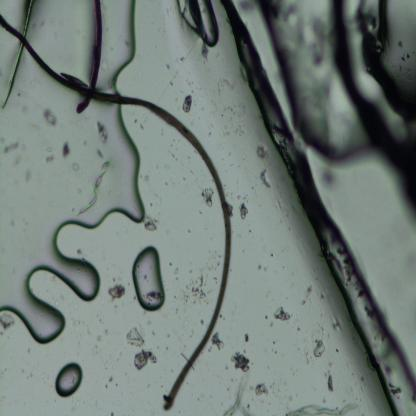Air bubble: (0, 121, 150, 344), (102, 0, 141, 93), (130, 244, 166, 312), (178, 0, 220, 50), (52, 362, 82, 398)
Background material: (0, 0, 35, 112), (178, 261, 221, 305), (134, 348, 158, 372), (124, 324, 146, 348), (94, 120, 109, 146), (233, 350, 252, 370), (109, 280, 127, 301), (300, 282, 314, 307), (273, 304, 292, 322), (201, 184, 214, 209), (259, 166, 272, 191), (0, 312, 16, 330), (255, 381, 270, 399), (312, 338, 325, 358), (144, 215, 159, 232), (238, 200, 250, 221), (60, 140, 72, 161), (212, 330, 224, 350), (44, 108, 57, 126), (254, 142, 266, 160), (4, 142, 20, 154), (182, 95, 192, 114), (326, 372, 334, 395), (47, 144, 54, 164), (241, 332, 250, 344)
Cellulose filter fibre: (78, 160, 110, 216), (223, 374, 250, 415), (286, 402, 362, 415)
Diatom: (62, 73, 88, 89)
Edge of slide: (219, 0, 416, 414)
Microfibre: (0, 14, 232, 411), (76, 0, 104, 116)
